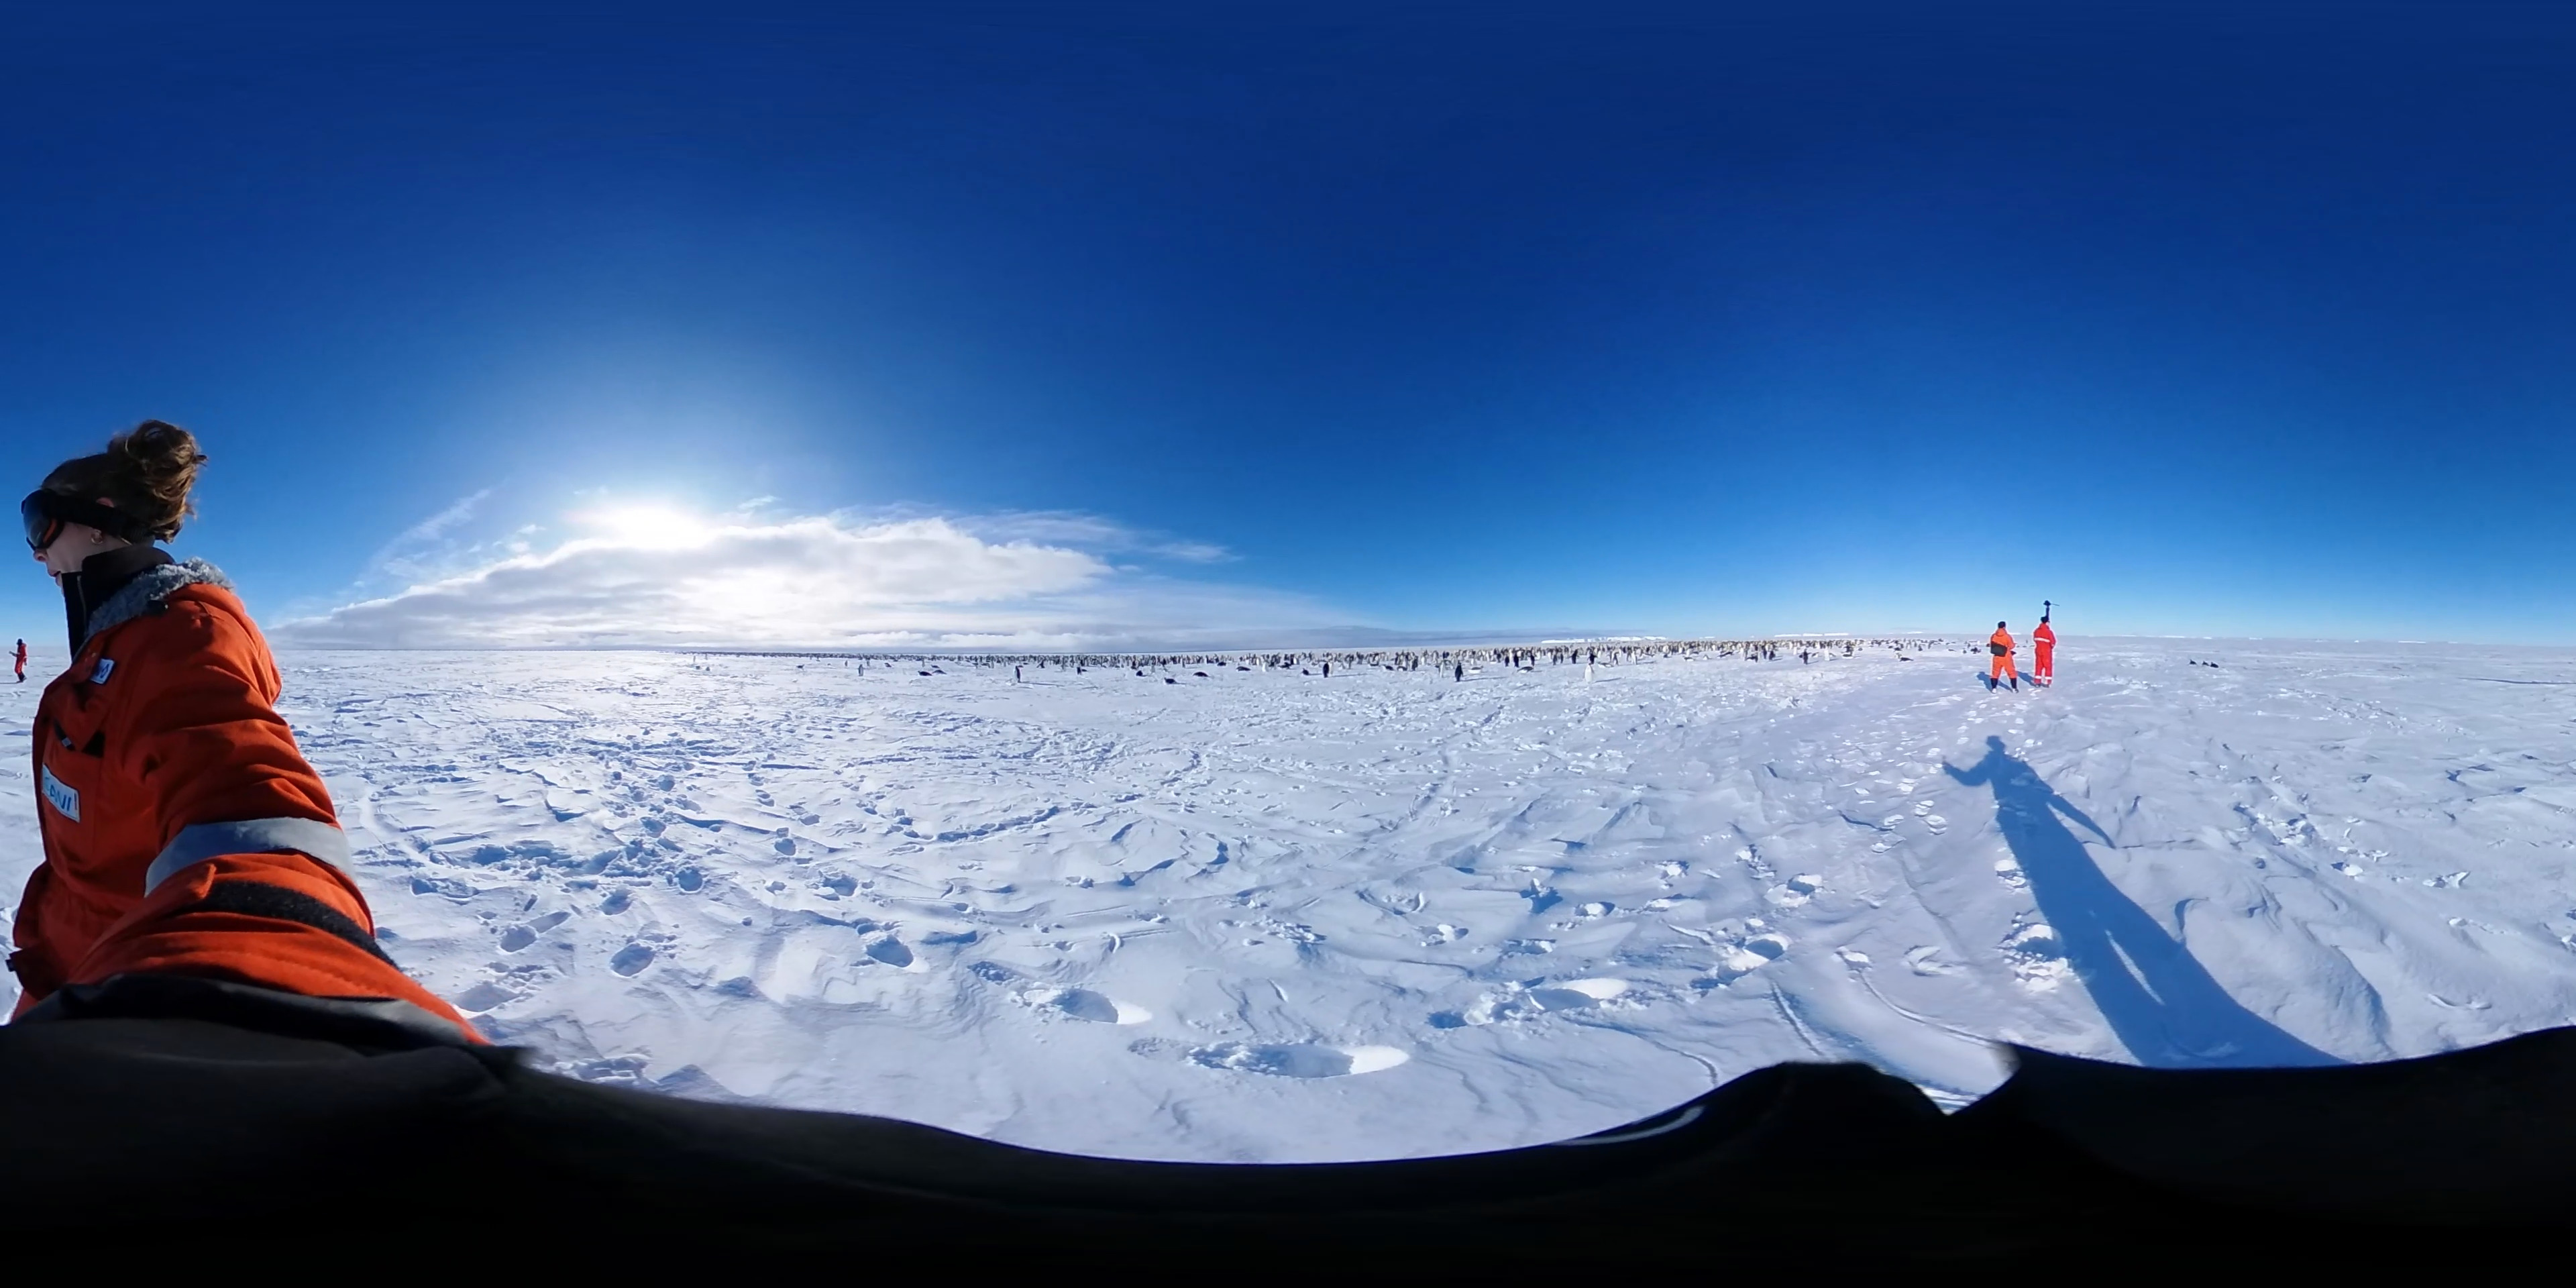adult_standing_penguin: (1012, 664, 1025, 683), (1452, 662, 1465, 682), (1580, 665, 1592, 682)
adult_toboggan_penguin: (2187, 655, 2200, 672), (1189, 670, 1207, 682), (2206, 659, 2221, 672), (1161, 677, 1181, 685), (915, 670, 933, 678), (1516, 670, 1538, 675), (1896, 657, 1917, 662), (2203, 659, 2208, 670)
researcher: (18, 414, 411, 1014), (1988, 616, 2022, 693), (2027, 613, 2055, 692), (7, 636, 36, 683)
